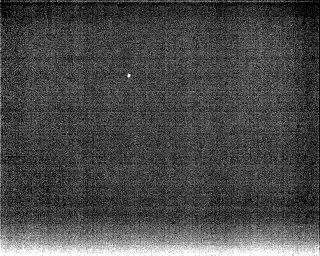BIRD: (124, 71, 133, 81)
